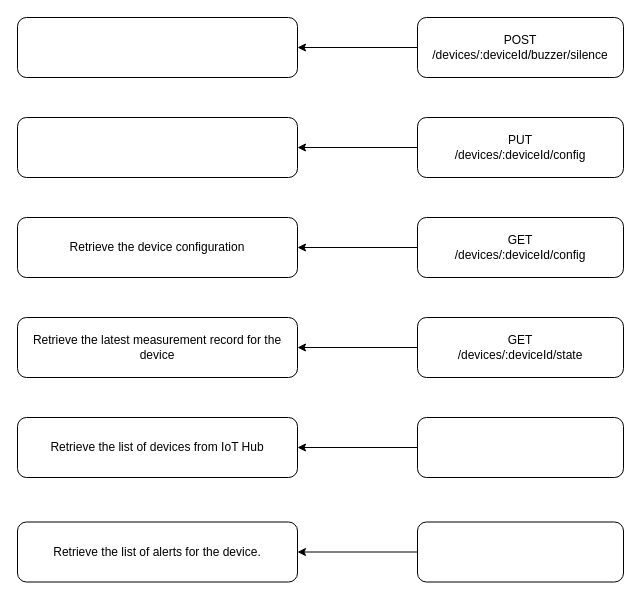
This 641x600 diagram has some shape labels left out. Here are the shapes that lost their labels. From the top down, the box of each, then its label:
(16, 16, 298, 78): Silence the buzzer and changes the current alert status to 'acknowledged'.
(16, 116, 298, 178): Update the device twin configuration and saves the configuration to the database
(416, 416, 624, 478): GET /devices
(416, 521, 624, 582): GET /devices/:deviceId/alerts
